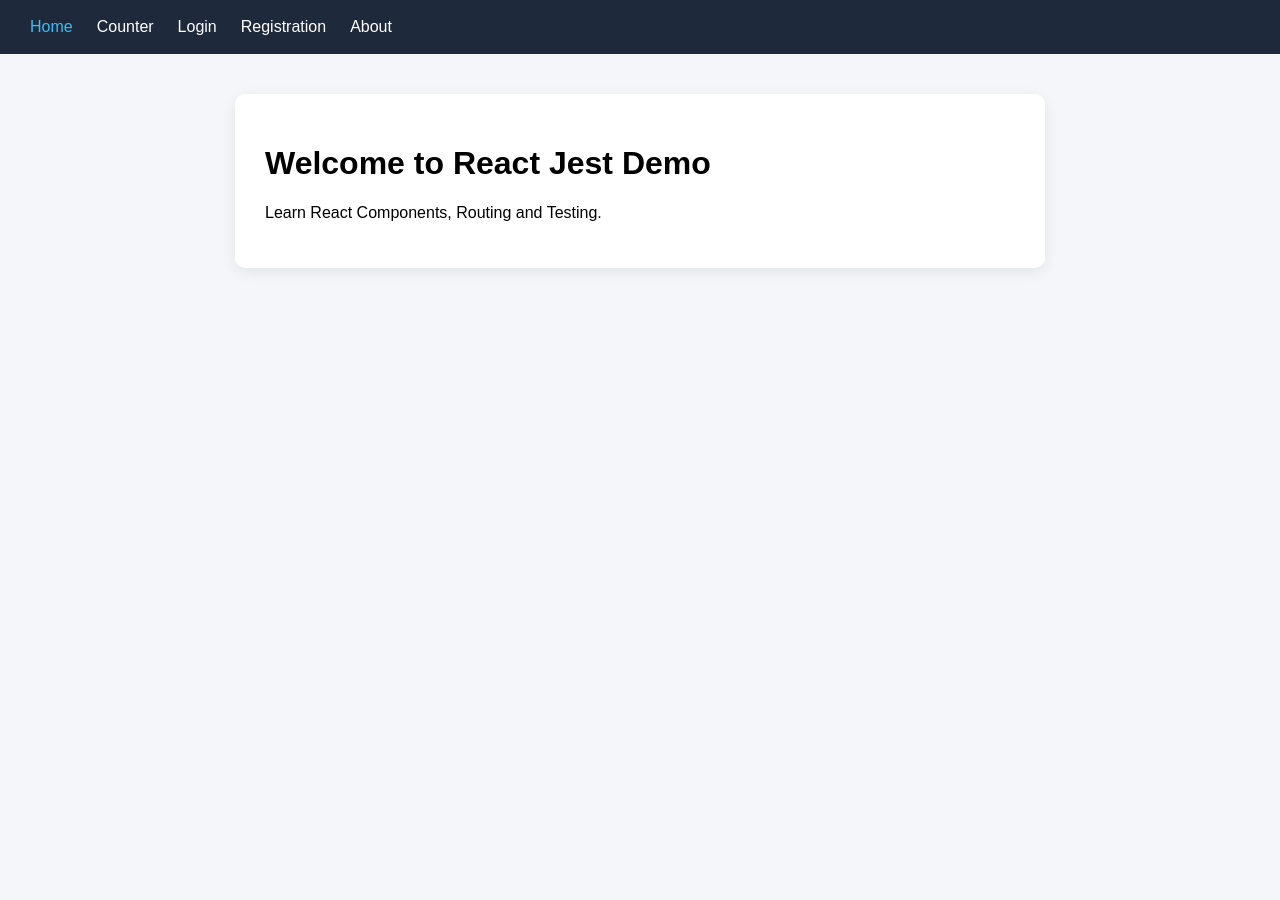
Test: Application Routing › navigates to Registration page
Click the link "Registration" at (284, 27), box [241,18,326,36]
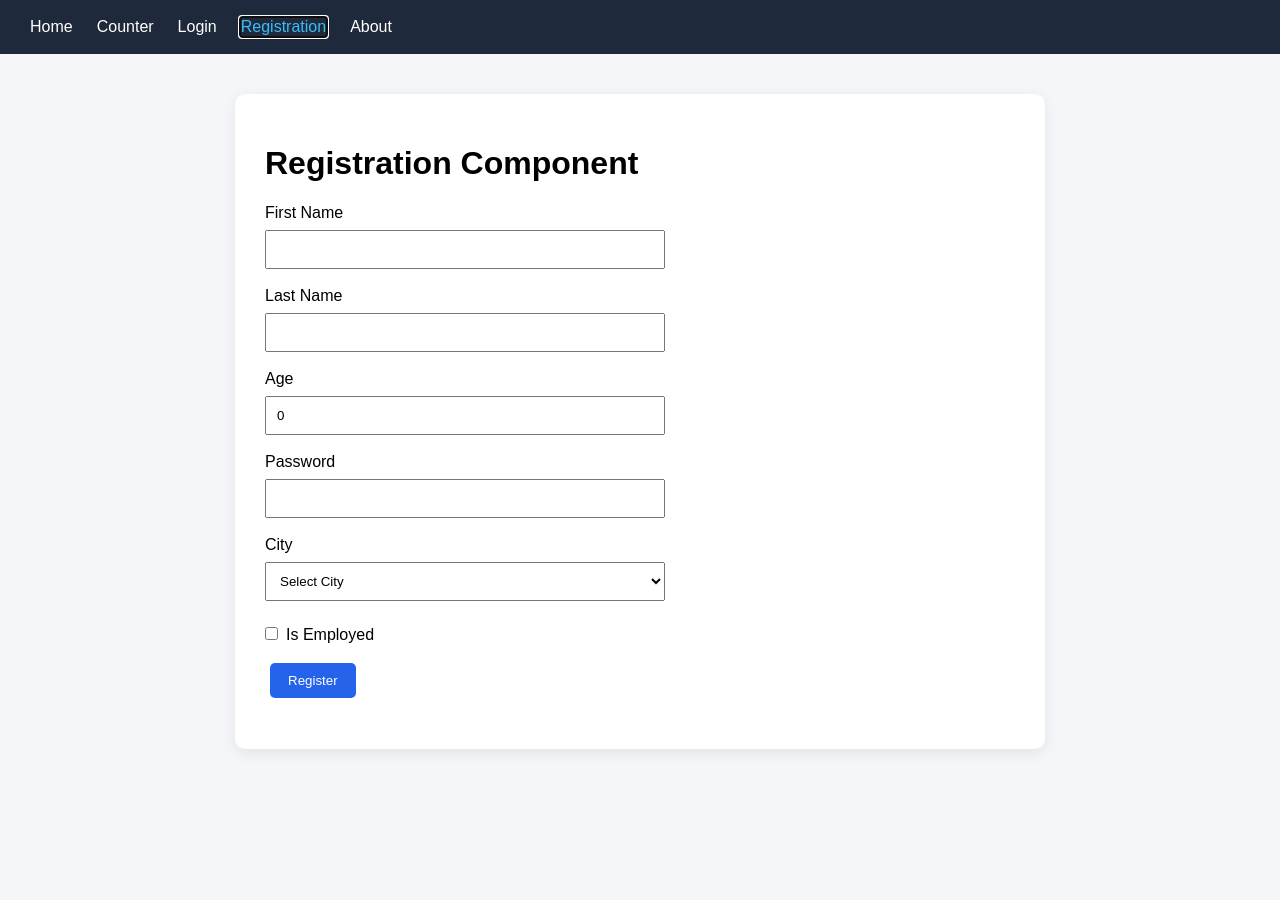
Expected: the heading "Registration Component" is shown, [265,145,638,181]
